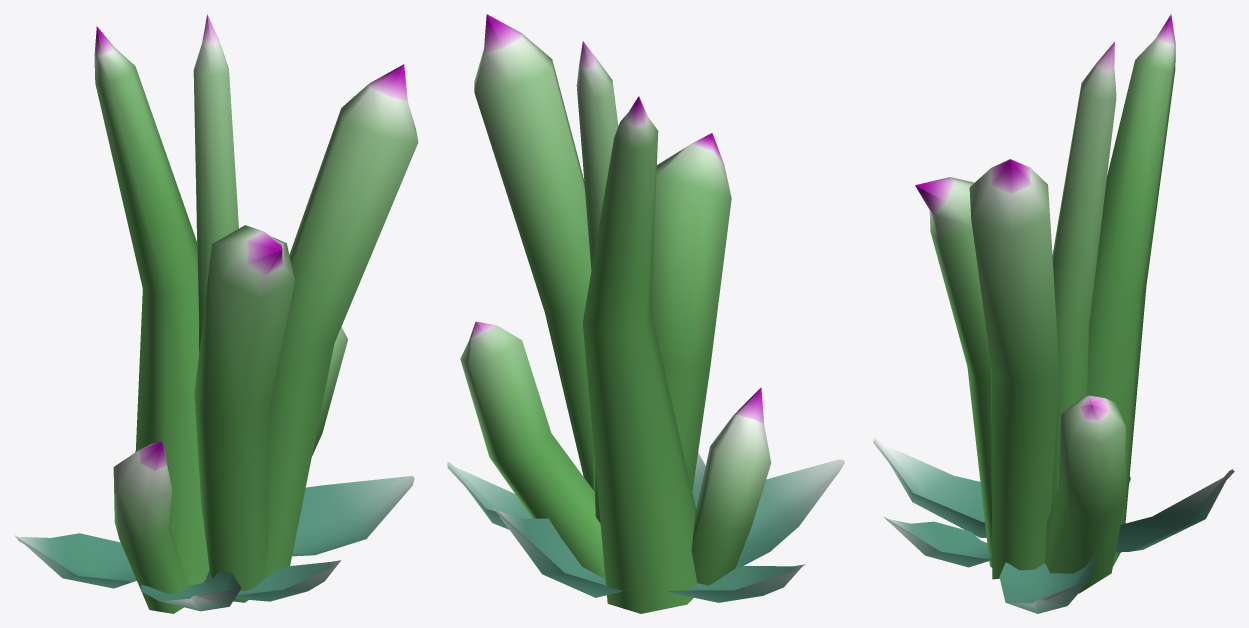
The model's file is Cactus.glb.
3 views of the same model, side by side, from view 1: azimuth 30°, elevation 25°; view 2: azimuth 150°, elevation 25°; view 3: azimuth 270°, elevation 25° (orthographic). The views are drawn at different scales.
Parts seen in each view (by area): view 1: cactus01; view 2: cactus01; view 3: cactus01.
Part boxes in pixels (bbox=[...]): cactus01: bbox=[14, 14, 418, 613]; cactus01: bbox=[447, 14, 844, 613]; cactus01: bbox=[873, 14, 1234, 613].
Bounding box in the file's own units: 0.4423 × 0.6186 × 0.3731.
1 material, 1 textured.
